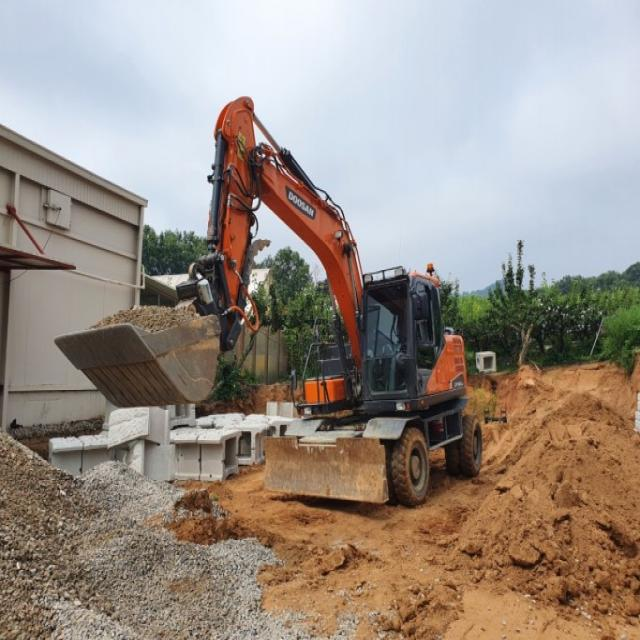excavator: (55, 97, 482, 508)
